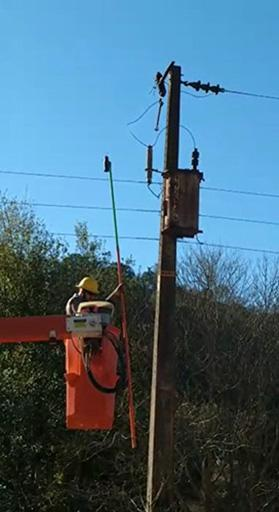Detector_Tensao_Contato: (103, 153, 111, 176)
Vara_Manobra: (109, 171, 138, 450)
